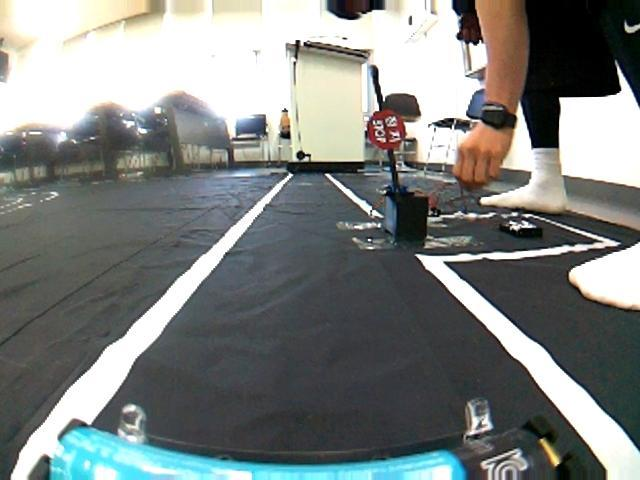sign_stop: (365, 106, 413, 153)
straight: (13, 263, 569, 478)
